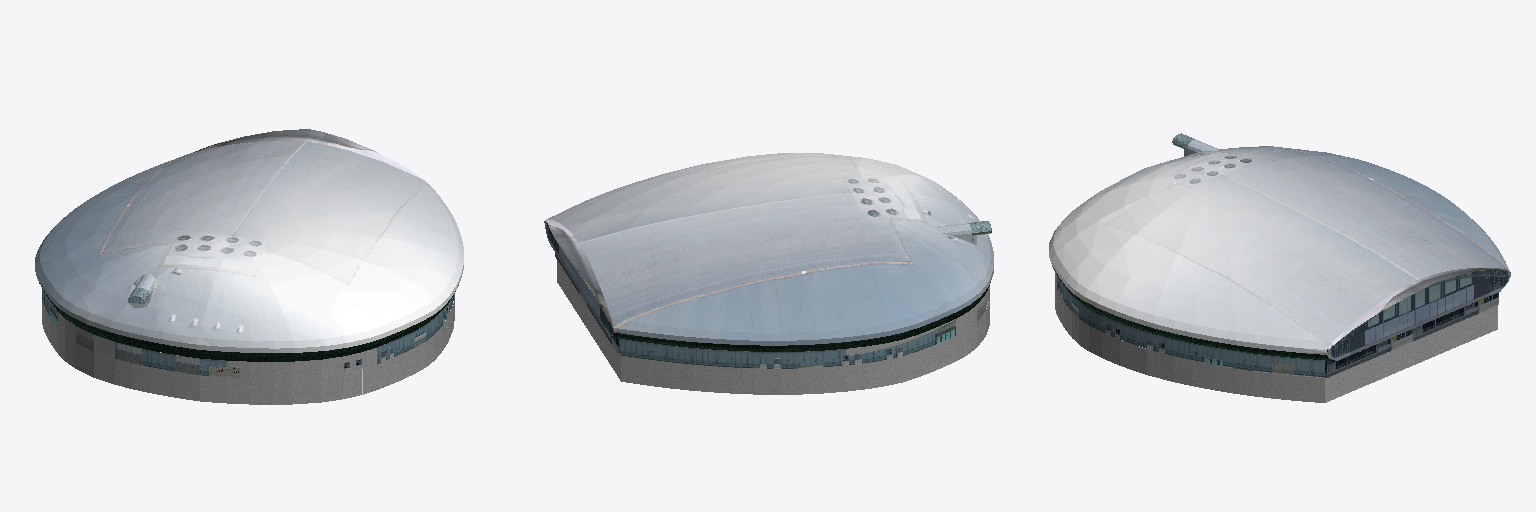
3 renders of one model, left to right at view 1: azimuth 30°, elevation 25°; view 2: azimuth 150°, elevation 25°; view 3: azimuth 270°, elevation 25°, orthographic.
Visible parts, largest first — view 1: Sapporo_Dome_g_39954-auto8, Sapporo_Dome_Main-Material6, Sapporo_Dome_Main-Metal_Steel_Textured, Sapporo_Dome_Main-auto5, Sapporo_Dome_Main-stadiumGERoof, Sapporo_Dome_Main-auto7; view 2: Sapporo_Dome_g_39954-auto8, Sapporo_Dome_Main-Material6, Sapporo_Dome_Main-auto5, Sapporo_Dome_Main-Metal_Steel_Textured, Sapporo_Dome_Main-stadiumGERoof, Sapporo_Dome_Main-auto13; view 3: Sapporo_Dome_g_39954-auto8, Sapporo_Dome_Main-Material6, Sapporo_Dome_Main-auto13, Sapporo_Dome_Main-auto5, Sapporo_Dome_Main-Metal_Steel_Textured, Sapporo_Dome_Main-stadiumGERoof.
Boxes of the visible parts, x1=… form: Sapporo_Dome_g_39954-auto8: x1=35, y1=140, x2=463, y2=352; Sapporo_Dome_Main-Material6: x1=42, y1=295, x2=454, y2=404; Sapporo_Dome_Main-Metal_Steel_Textured: x1=39, y1=283, x2=458, y2=361; Sapporo_Dome_Main-auto5: x1=42, y1=289, x2=453, y2=375; Sapporo_Dome_Main-stadiumGERoof: x1=190, y1=129, x2=426, y2=182; Sapporo_Dome_Main-auto7: x1=117, y1=343, x2=199, y2=374; Sapporo_Dome_g_39954-auto8: x1=548, y1=153, x2=993, y2=345; Sapporo_Dome_Main-Material6: x1=557, y1=260, x2=989, y2=394; Sapporo_Dome_Main-auto5: x1=619, y1=330, x2=934, y2=368; Sapporo_Dome_Main-Metal_Steel_Textured: x1=611, y1=282, x2=990, y2=351; Sapporo_Dome_Main-stadiumGERoof: x1=544, y1=219, x2=613, y2=331; Sapporo_Dome_Main-auto13: x1=545, y1=221, x2=618, y2=354; Sapporo_Dome_g_39954-auto8: x1=1049, y1=146, x2=1509, y2=354; Sapporo_Dome_Main-Material6: x1=1055, y1=272, x2=1497, y2=402; Sapporo_Dome_Main-auto13: x1=1325, y1=270, x2=1510, y2=377; Sapporo_Dome_Main-auto5: x1=1057, y1=276, x2=1324, y2=377; Sapporo_Dome_Main-Metal_Steel_Textured: x1=1052, y1=266, x2=1334, y2=360; Sapporo_Dome_Main-stadiumGERoof: x1=1326, y1=268, x2=1510, y2=352.
Size of the model in its own units: 268 by 70.47 by 268.
Materials: 45 (32 with a texture image).